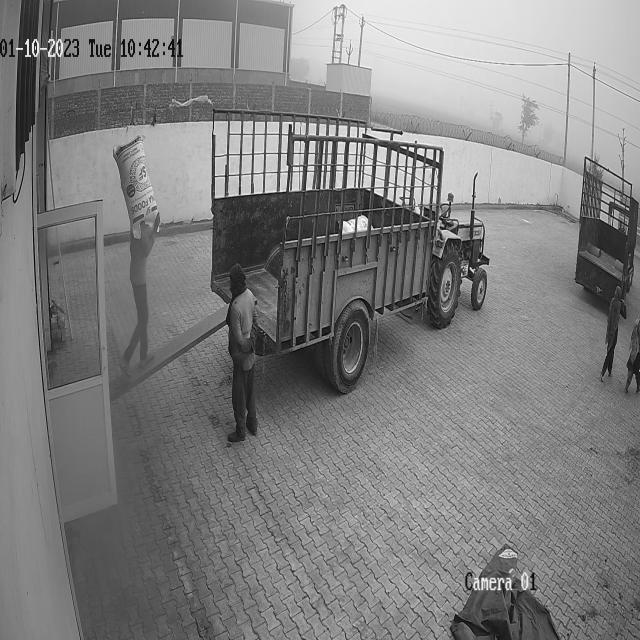sack: (112, 135, 158, 239)
